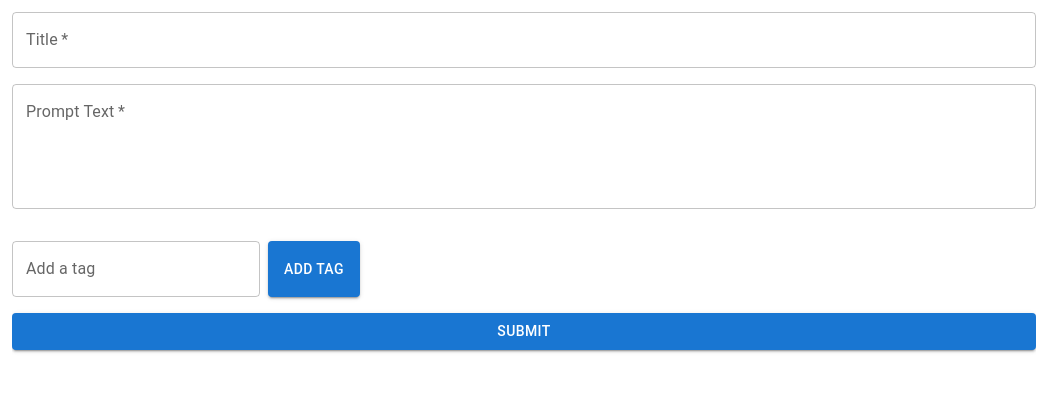
Test case: PromptForm › allows typing into input fields
The width and height of the screenshot is (1048, 402).
Type "New Prompt Title" into the field labelled "Title *". click: (524, 40)
box: [12,12,1036,68]
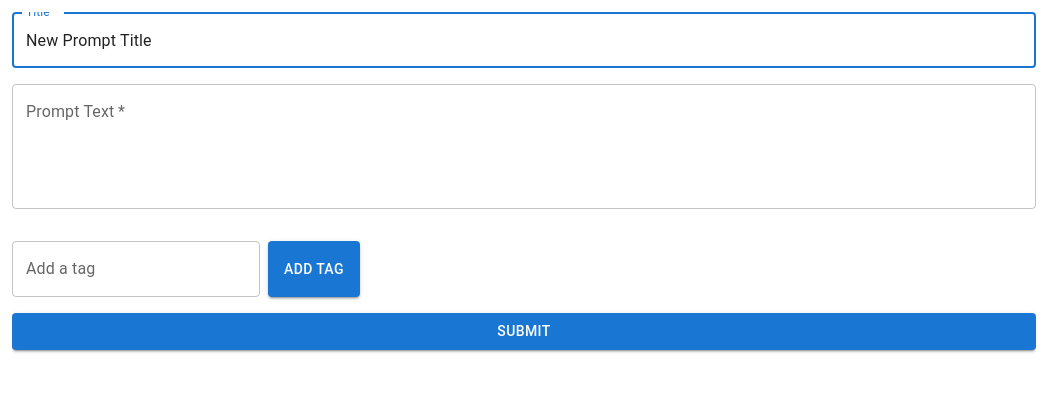
Type "New Prompt Text" into the text box labelled "Prompt Text *". click: (524, 146)
box: [26,100,1022,192]
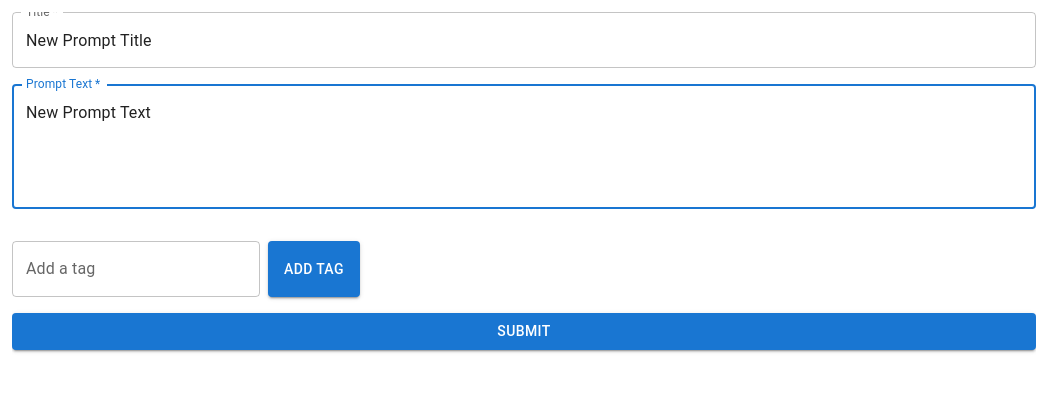
Type "tag1" into the field labelled "Add a tag". click: (136, 269)
box: [12,241,260,297]
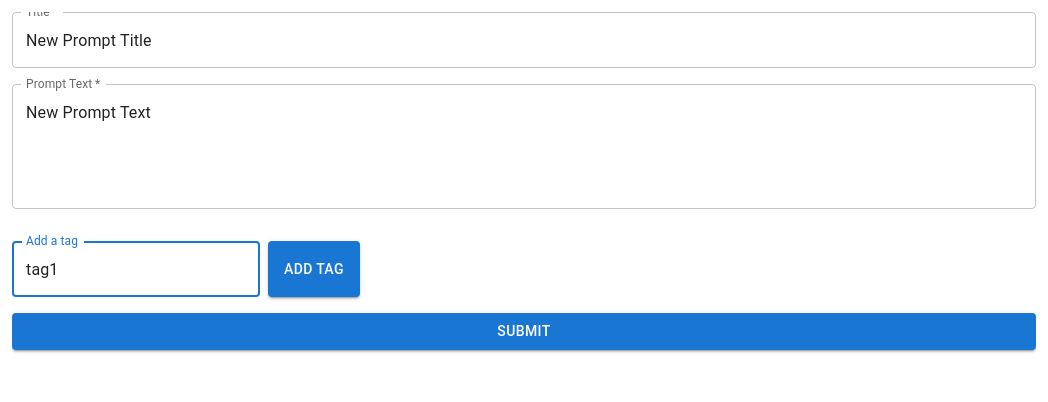
Click the button "Add Tag". click: (314, 269)
box: [268,241,360,297]
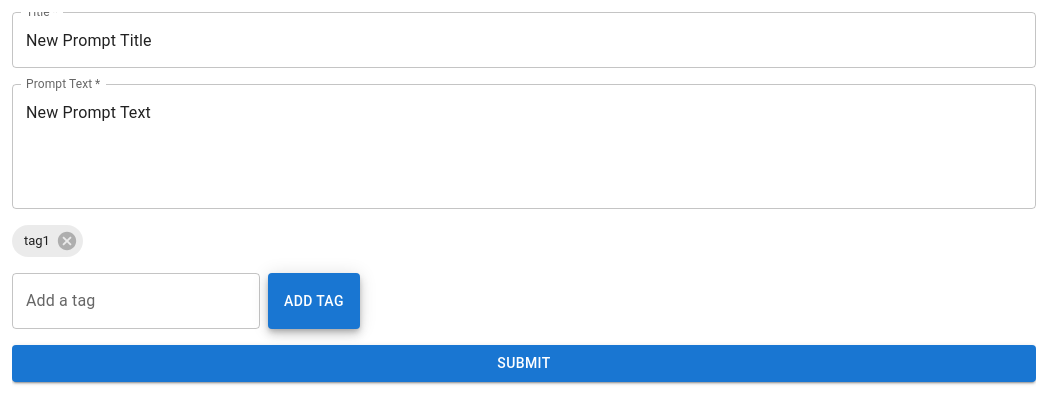
Type "tag2" into the field labelled "Add a tag". click: (136, 301)
box: [12,273,260,329]
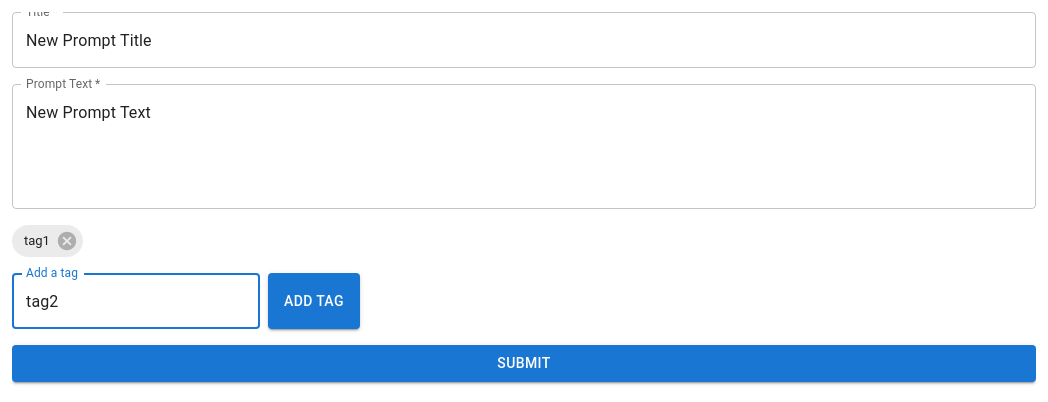
Click the button "Add Tag". click: (314, 301)
box: [268,273,360,329]
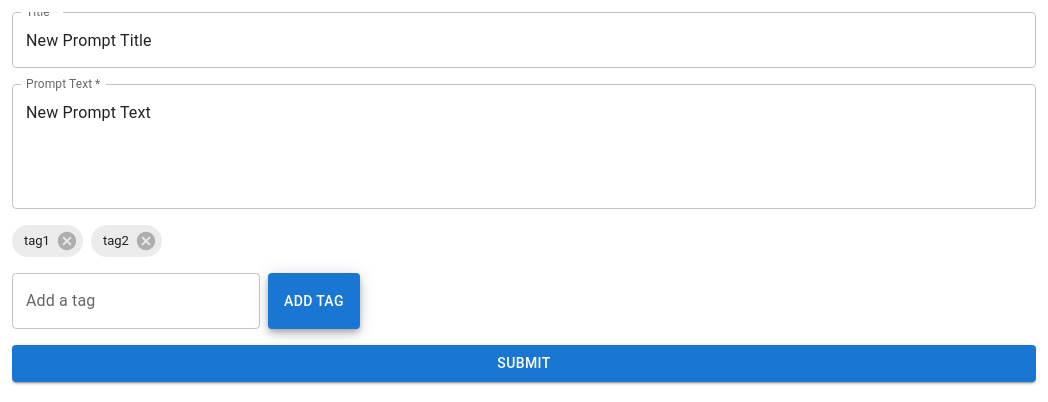
Expected: the text "tag1" is shown, [24,233,50,248]
Expected: the text "tag2" is shown, [103,233,129,248]
